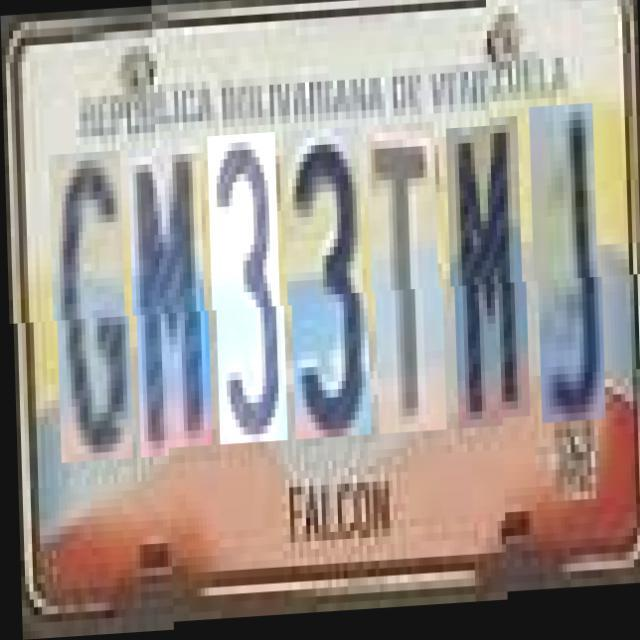3: (286, 131, 368, 443), (210, 136, 285, 448)
G: (51, 144, 130, 456)
J: (532, 119, 603, 438)
M: (130, 140, 210, 452), (449, 131, 527, 435)
T: (369, 127, 444, 439)
